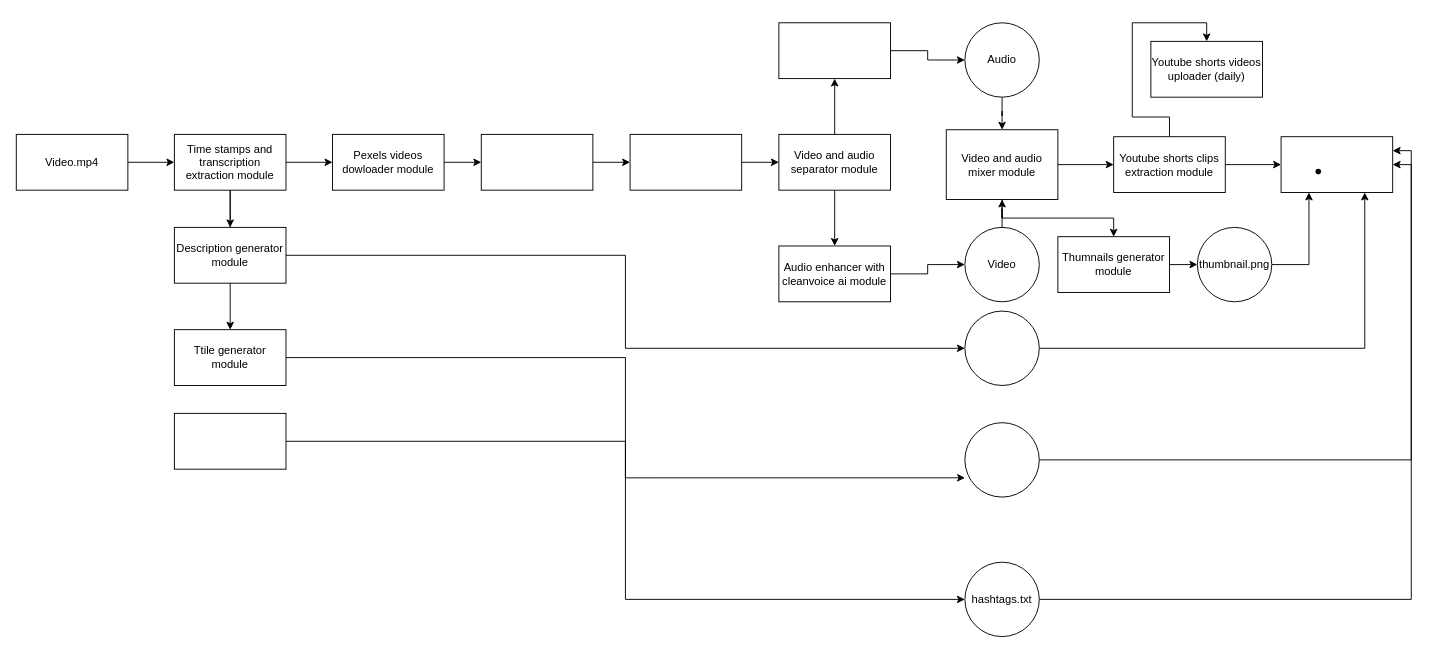
Image size: 1435x653. Some labels were removed from this diagram. The box of each missing label's shape, as (x1, y1, x2, y2) in pixels:
description.txt: (964, 310, 1039, 385)
hashtags generator module: (173, 412, 286, 469)
Pexels videos indexer module: (480, 133, 593, 190)
Subtitles generator module: (629, 133, 742, 190)
title.txt: (964, 422, 1039, 497)
Video cleaner with FFMPEG module: (778, 22, 890, 79)
Youtube normal videos uploader (weekly): (1280, 136, 1393, 193)
